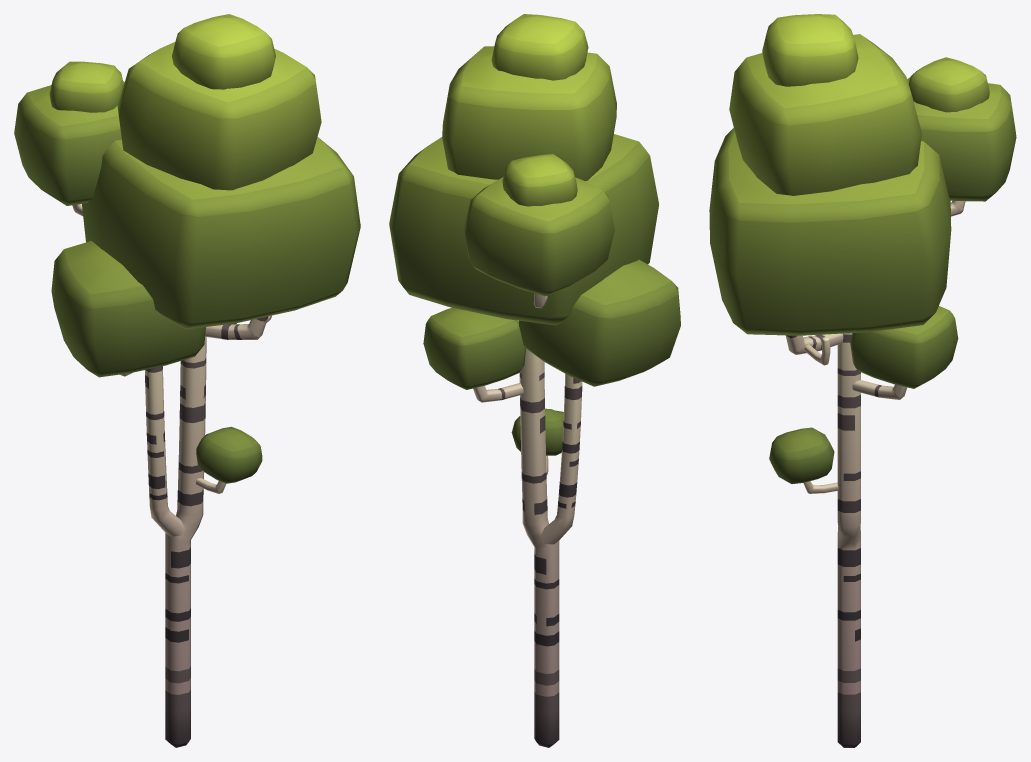
Rendered from pinetree.glb.
The picture shows the model from 3 angles, left to right: view 1: azimuth 30°, elevation 25°; view 2: azimuth 150°, elevation 25°; view 3: azimuth 270°, elevation 25°; orthographic projection. The views are drawn at different scales.
Visible parts, largest first — view 1: birch_tree_col1_01; view 2: birch_tree_col1_01; view 3: birch_tree_col1_01.
Boxes of the visible parts, x1,y1,x2,y2 form: birch_tree_col1_01: (14, 14, 360, 747); birch_tree_col1_01: (389, 14, 680, 747); birch_tree_col1_01: (709, 14, 1016, 747).
Size of what is drawn, in the model's own units: 4.77 by 13 by 4.92.
Materials: 1 (1 with a texture image).
